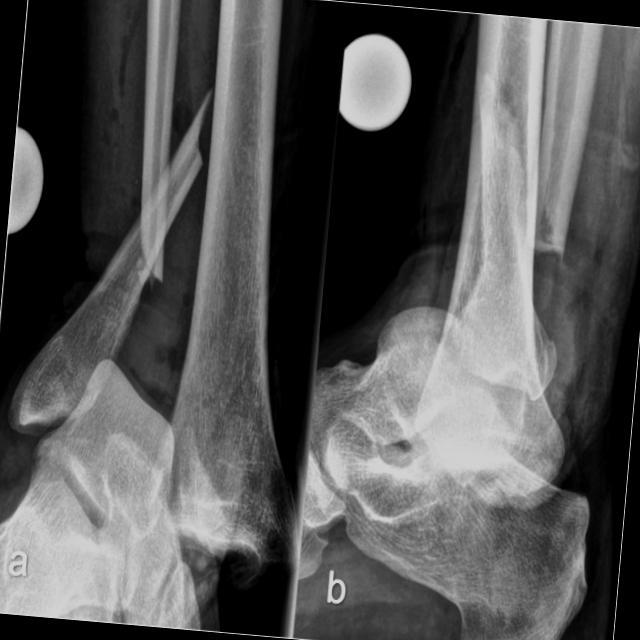Fracture Dislocation: (132, 90, 204, 282), (513, 220, 578, 268)
